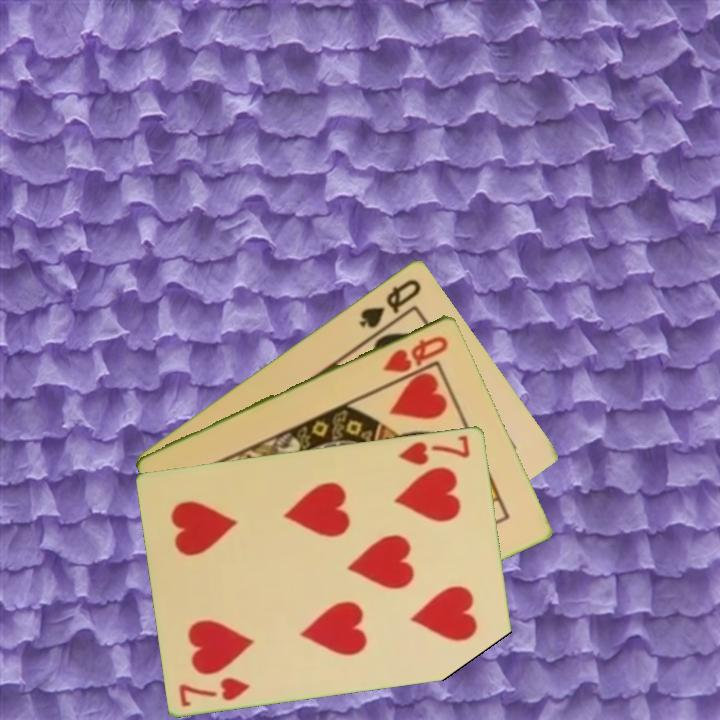7h: (395, 431, 473, 468), (176, 673, 253, 710)
Qh: (379, 331, 452, 375)
Qs: (355, 275, 425, 331)
